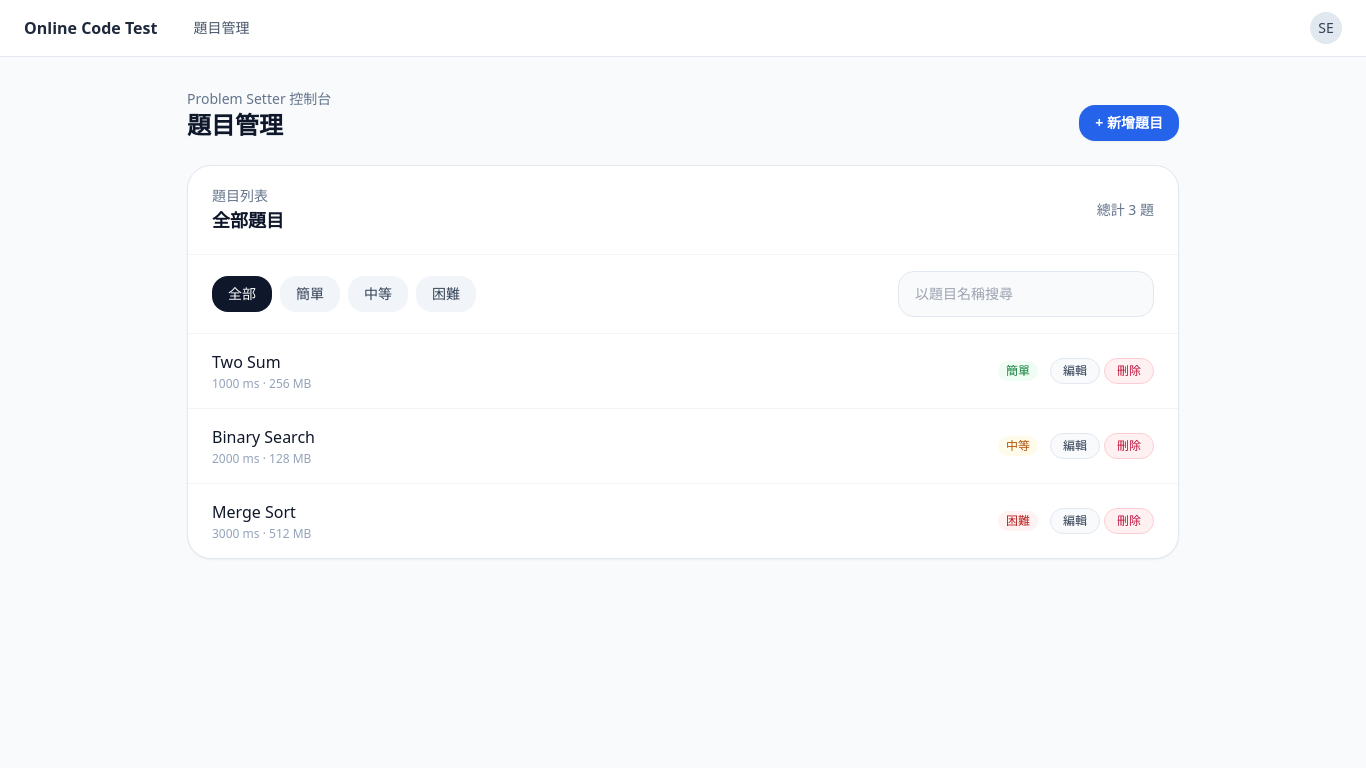
ProblemSetterDashboardPage() › difficulty filter: clicking easy shows only easy problems
Expected: the text "Two Sum" is shown, [212,351,281,373]
Click the button "簡單". click: (310, 294)
box: [280,276,340,312]
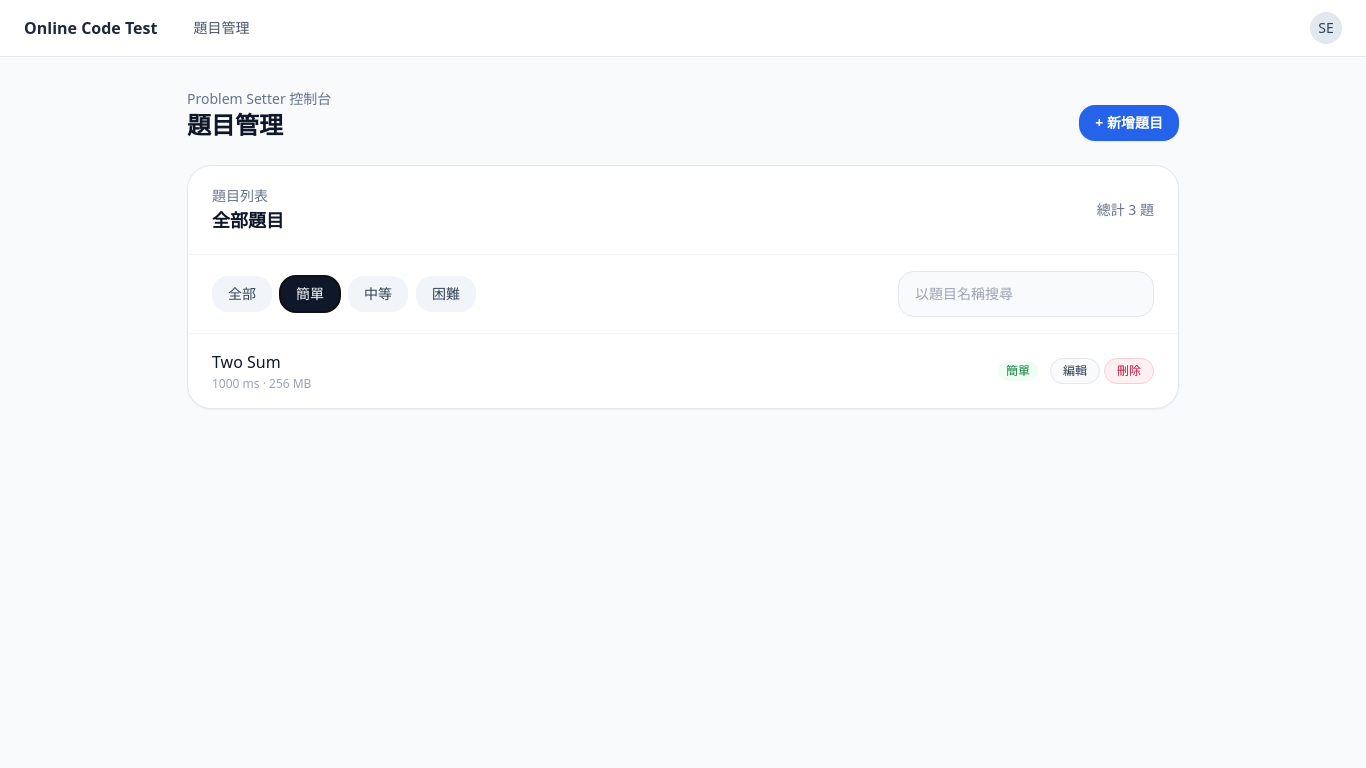
Expected: the text "Two Sum" is shown, [212,351,281,373]
Now the text "Binary Search" is gone
Now the text "Merge Sort" is gone
